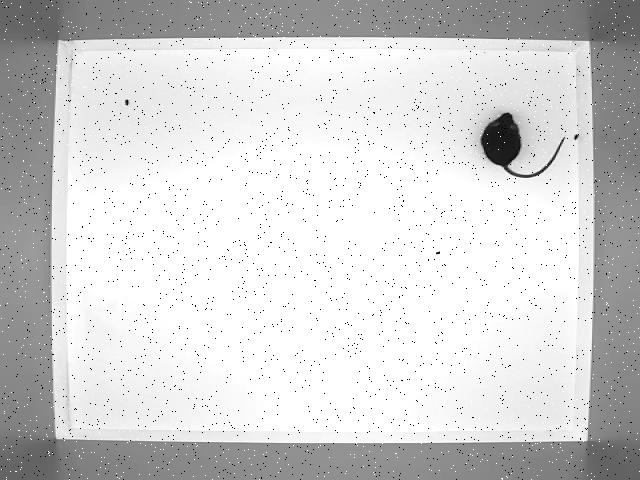Tikus: (476, 110, 566, 178)
